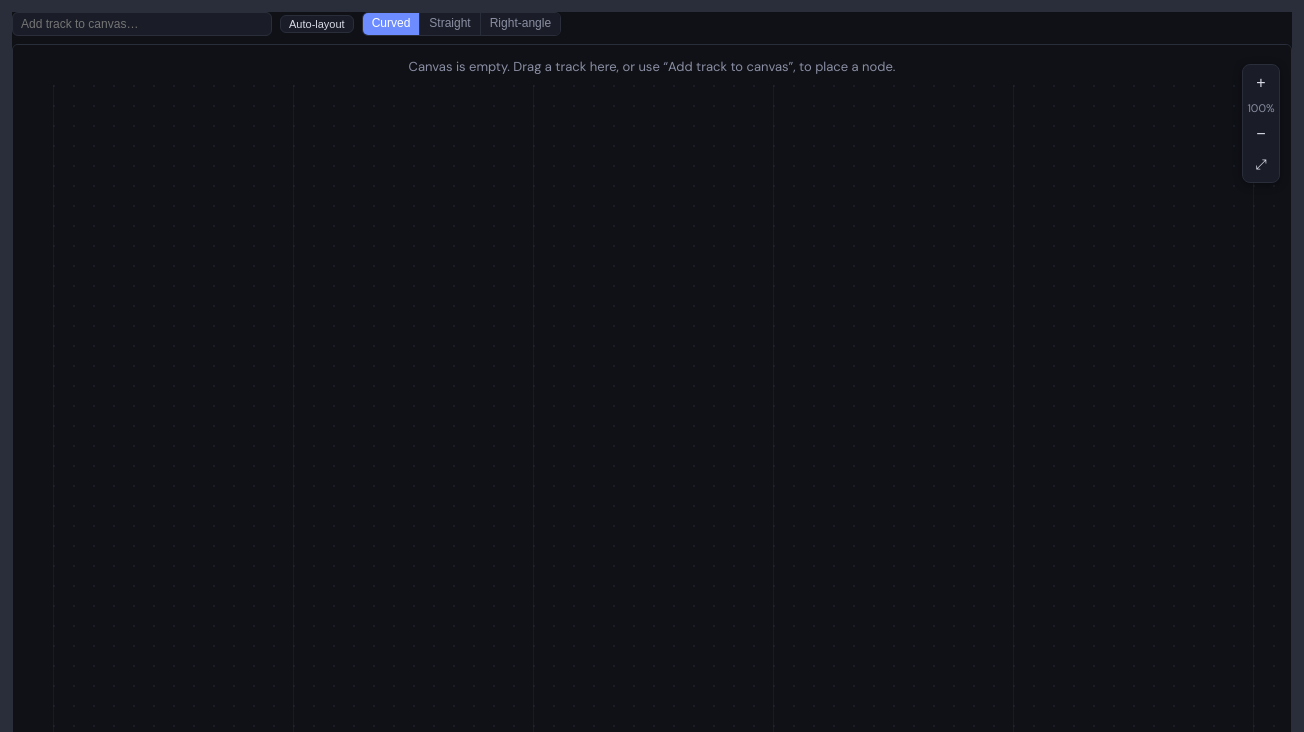
Test: SetExplorerCanvas — zoom › zooms in and reflects the level
Expected: the text with test id "explorer-zoom-level" reads "100%", [1247,99,1275,118]
Click the button named "Zoom in": point(1261, 83) [1247,69,1275,97]
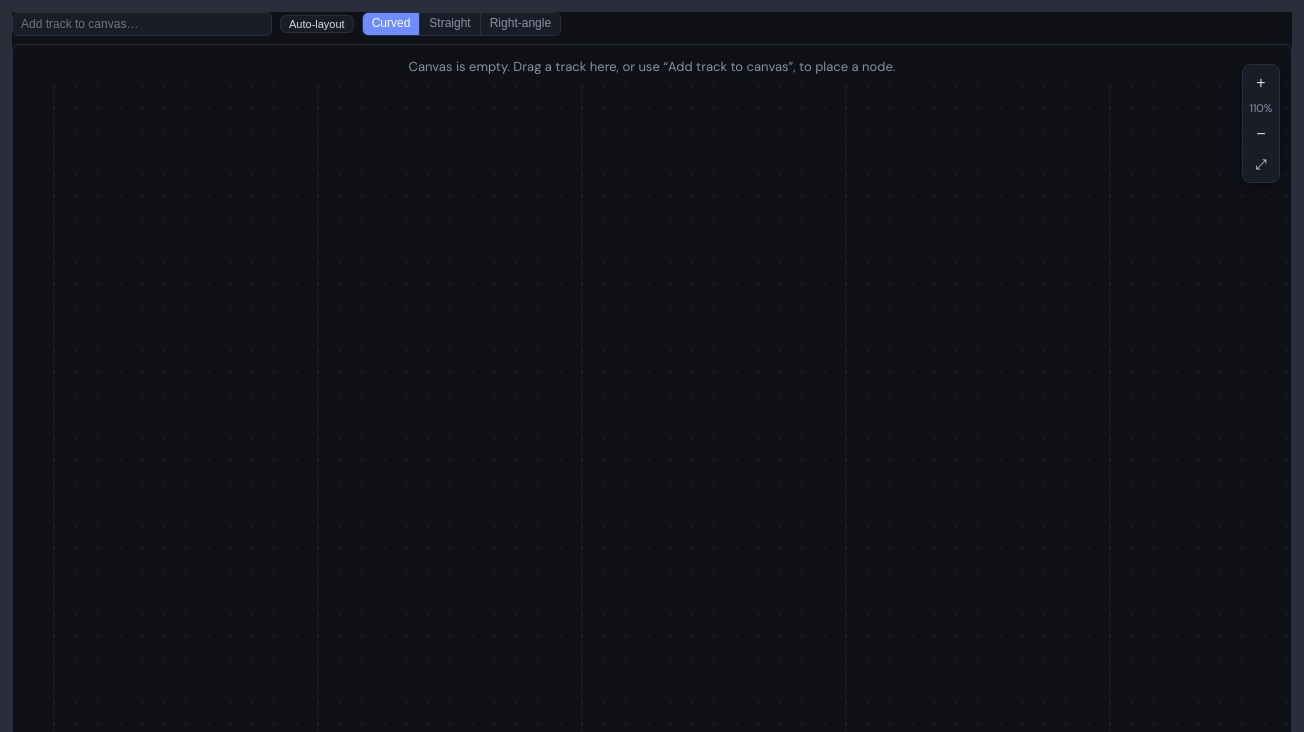
Now the text with test id "explorer-zoom-level" reads "110%", box [1250,101,1272,115]
